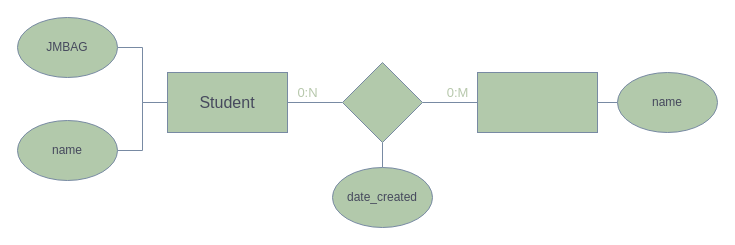
Image size: 735x245. Some labels were removed from this diagram. The centre of each missing label's shape, as x and y in pixels:
"Room" belongs at [537,102].
"Visit" belongs at [382,102].
